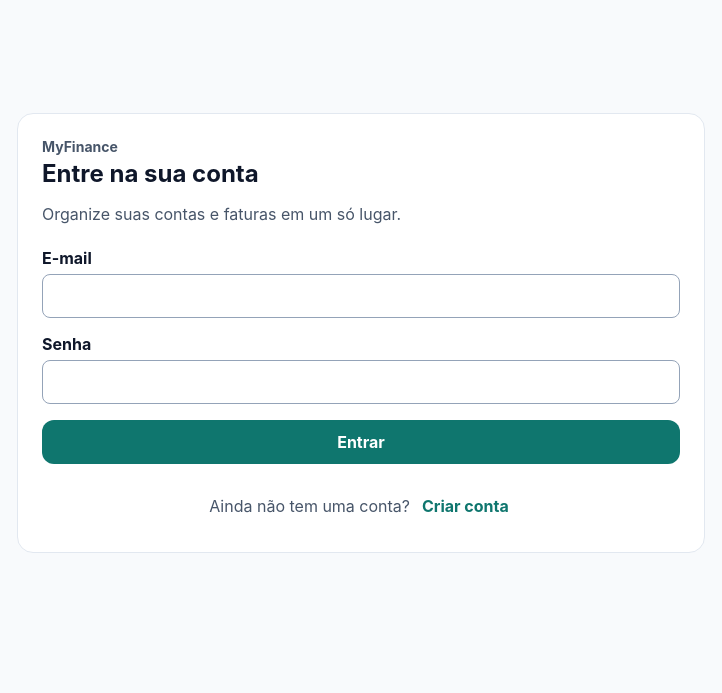
Test case: App › creates a user account with only name, email, and password
Expected: the heading "Entre na sua conta" is shown, x1=42 y1=159 x2=259 y2=188
Click the button "Criar conta": (465, 506) x1=418 y1=484 x2=513 y2=528
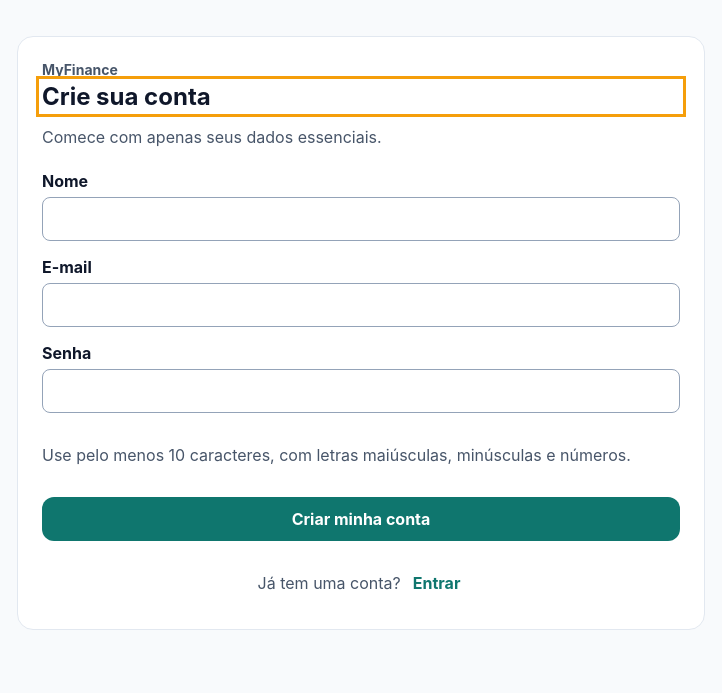
In the field labelled "Nome": (361, 219) x1=42 y1=197 x2=680 y2=241, type "Ana Souza"
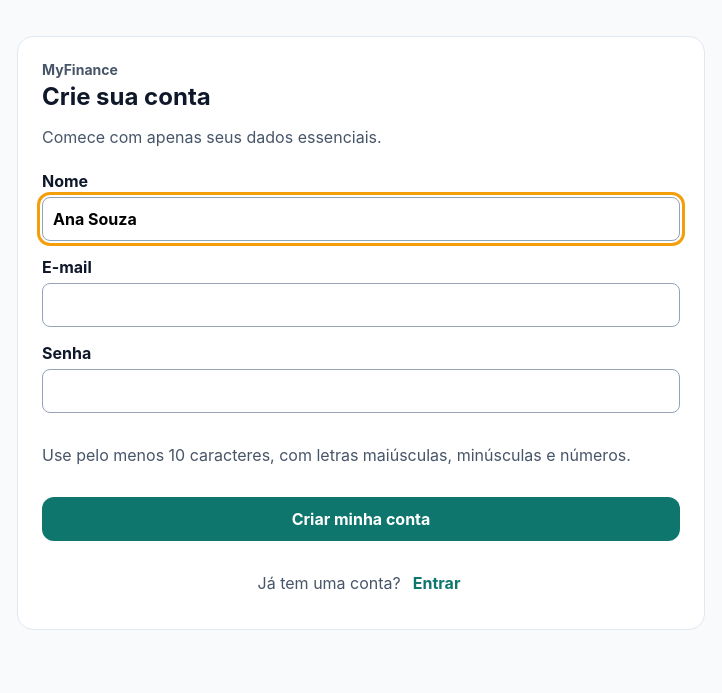
In the field labelled "E-mail": (361, 305) x1=42 y1=283 x2=680 y2=327, type "ana@example.com"
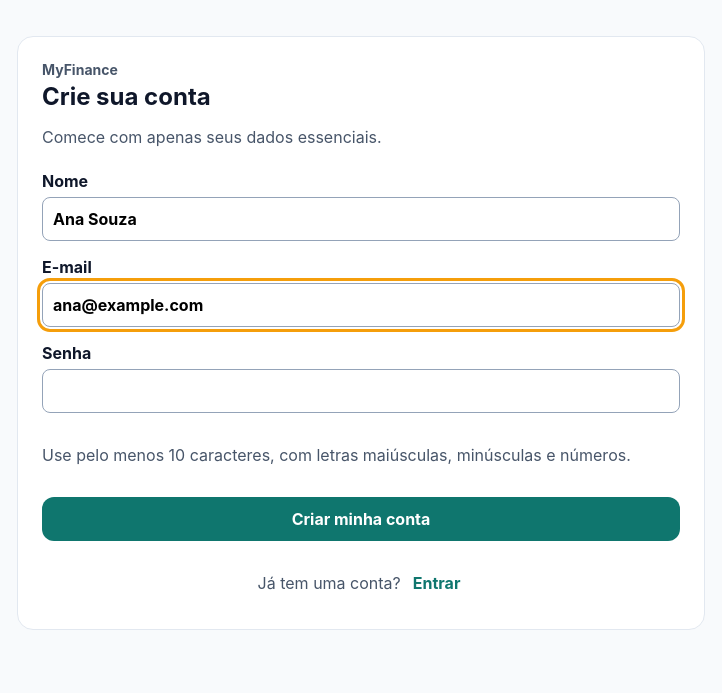
In the password field labelled "Senha": (361, 391) x1=42 y1=369 x2=680 y2=413, type "Safe-password1"
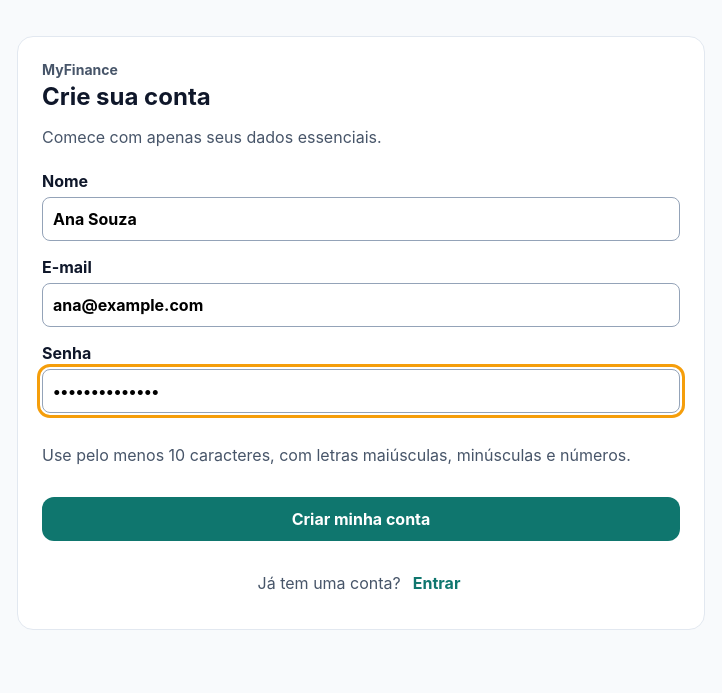
Click the button "Criar minha conta": (361, 519) x1=42 y1=497 x2=680 y2=541
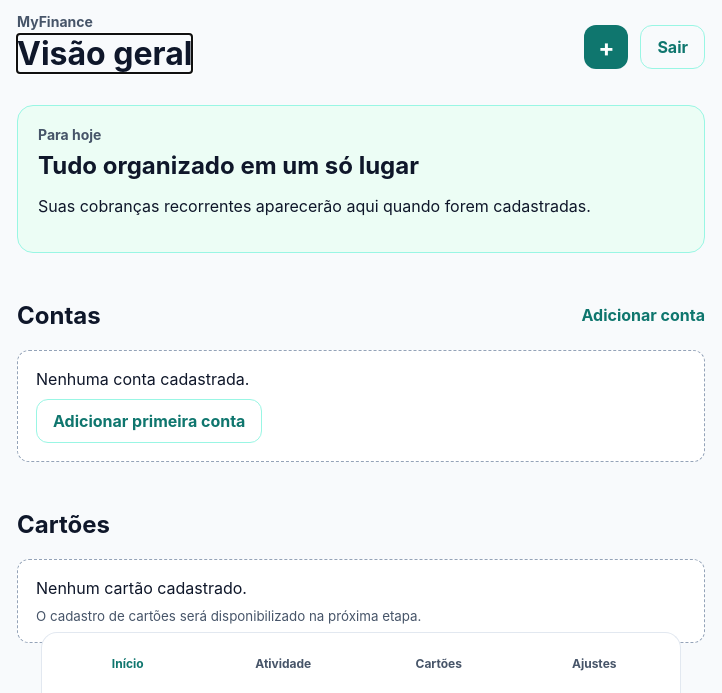
Result: the heading "Visão geral" is shown at x1=17 y1=34 x2=192 y2=73
